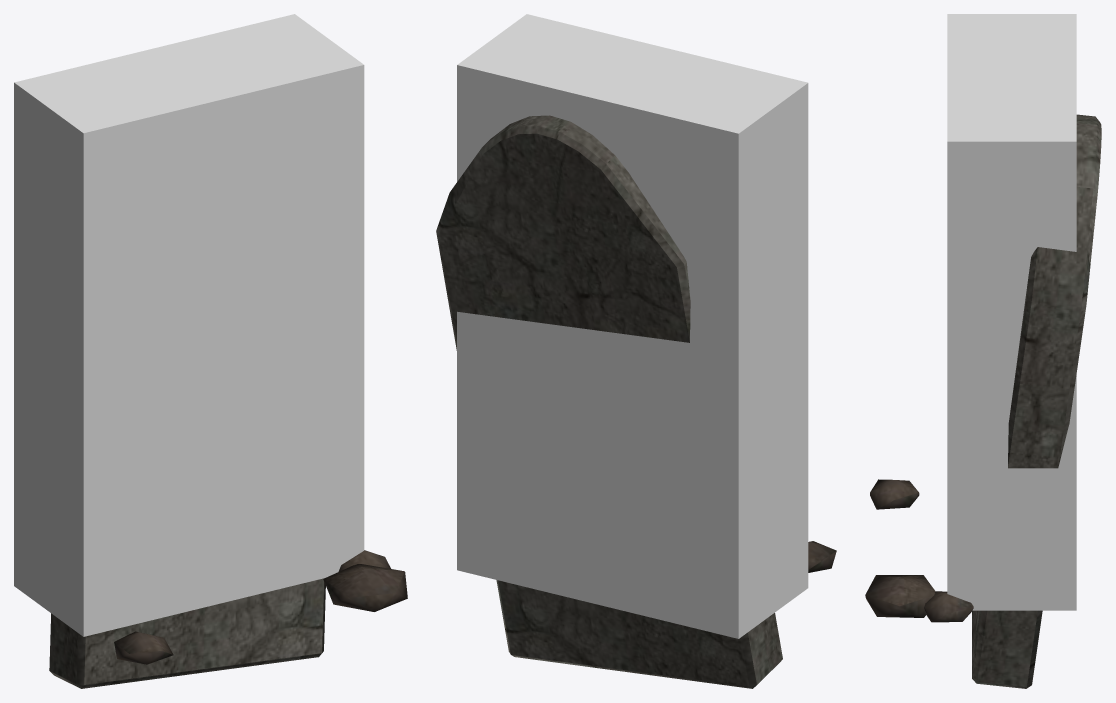
The model's file is tombstone_gothic_v1_lite.glb.
The picture shows the model from 3 angles, left to right: view 1: azimuth 30°, elevation 25°; view 2: azimuth 150°, elevation 25°; view 3: azimuth 270°, elevation 25°; orthographic projection. The views are drawn at different scales.
Visible parts, largest first — view 1: col_tomb, stone, lite_merge_00, rb2; view 2: col_tomb, stone, rb2; view 3: col_tomb, stone, lite_merge_00, rb2.
Part boxes in pixels (box(x1,y1,x2,y2)): col_tomb: box(14, 14, 364, 636); stone: box(49, 578, 325, 688); lite_merge_00: box(323, 550, 407, 611); rb2: box(114, 631, 173, 664); col_tomb: box(457, 14, 808, 638); stone: box(436, 115, 782, 688); rb2: box(808, 541, 836, 572); col_tomb: box(947, 14, 1076, 610); stone: box(972, 114, 1101, 688); lite_merge_00: box(865, 575, 973, 622); rb2: box(870, 479, 919, 509).
Size of the model in its own units: 0.7518 by 1.44 by 0.5483.
6 materials, 6 textured.
